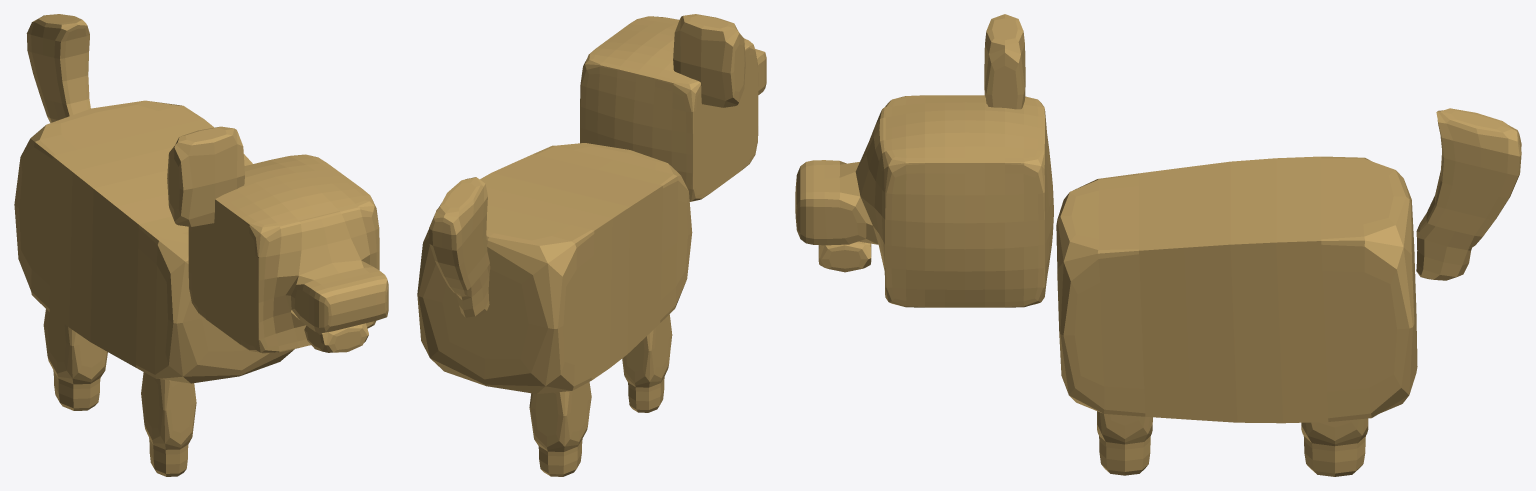
The model's file is sheepdog_test.fbx.
3 renders of one model, left to right at view 1: azimuth 30°, elevation 25°; view 2: azimuth 150°, elevation 25°; view 3: azimuth 270°, elevation 25°, orthographic. The views are drawn at different scales.
Parts seen in each view (by area): view 1: dog body, dog head, dog ear Right, dog tail, dog leg front Right, dog leg back Right, dog mouth; view 2: dog body, dog head, dog tail, dog ear Right, dog leg back Right, dog leg front Right; view 3: dog body, dog head, dog tail, dog ear Right, dog leg back Right, dog leg front Right, dog mouth.
Boxes of the visible parts, x1=… form: dog body: x1=14, y1=100, x2=294, y2=383; dog head: x1=188, y1=154, x2=388, y2=353; dog ear Right: x1=167, y1=126, x2=244, y2=226; dog tail: x1=26, y1=14, x2=90, y2=122; dog leg front Right: x1=141, y1=372, x2=196, y2=476; dog leg back Right: x1=43, y1=309, x2=107, y2=410; dog mouth: x1=304, y1=323, x2=368, y2=352; dog body: x1=417, y1=143, x2=692, y2=393; dog head: x1=580, y1=16, x2=766, y2=201; dog tail: x1=429, y1=177, x2=490, y2=317; dog ear Right: x1=673, y1=14, x2=745, y2=107; dog leg back Right: x1=529, y1=382, x2=591, y2=476; dog leg front Right: x1=622, y1=314, x2=672, y2=412; dog body: x1=1056, y1=156, x2=1417, y2=423; dog head: x1=795, y1=95, x2=1053, y2=307; dog tail: x1=1416, y1=108, x2=1521, y2=280; dog ear Right: x1=984, y1=14, x2=1025, y2=109; dog leg back Right: x1=1301, y1=418, x2=1368, y2=476; dog leg front Right: x1=1097, y1=411, x2=1152, y2=475; dog mouth: x1=818, y1=241, x2=871, y2=272.
Bounding box in the file's own units: 222 × 477 × 726.
